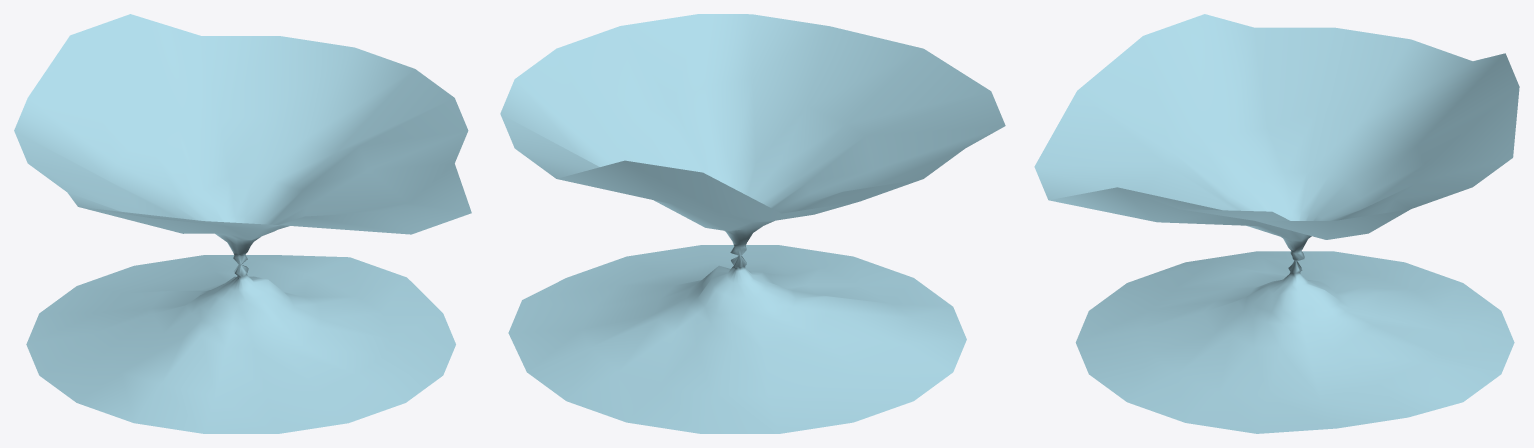
File: Ice_Base.fbx
3 renders of one model, left to right at view 1: azimuth 30°, elevation 25°; view 2: azimuth 150°, elevation 25°; view 3: azimuth 270°, elevation 25°, orthographic. The views are drawn at different scales.
Visible parts, largest first — view 1: Säule.001; view 2: Säule.001; view 3: Säule.001.
Boxes of the visible parts, x1,y1,x2,y2 form: Säule.001: (14, 14, 471, 433); Säule.001: (500, 14, 1005, 433); Säule.001: (1034, 14, 1519, 433).
Bounding box in the file's own units: 1626 × 969 × 1668.
